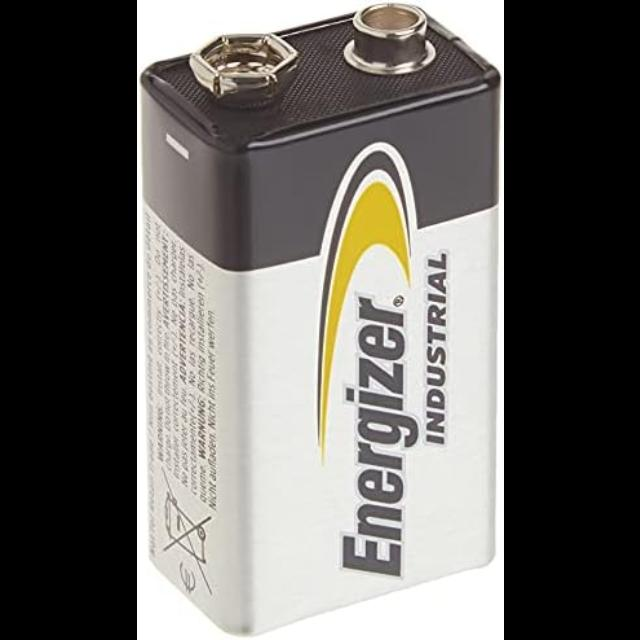Battery: (139, 0, 501, 637)
